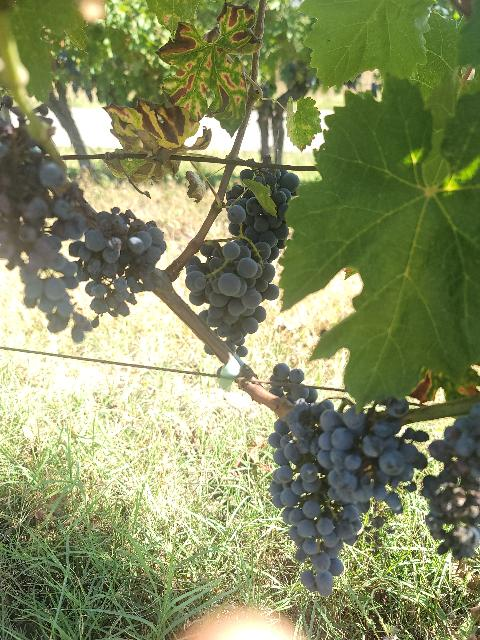grapes: (269, 398, 429, 598), (0, 100, 78, 332), (69, 208, 166, 316), (185, 241, 279, 344), (422, 404, 480, 560), (226, 169, 300, 262)
